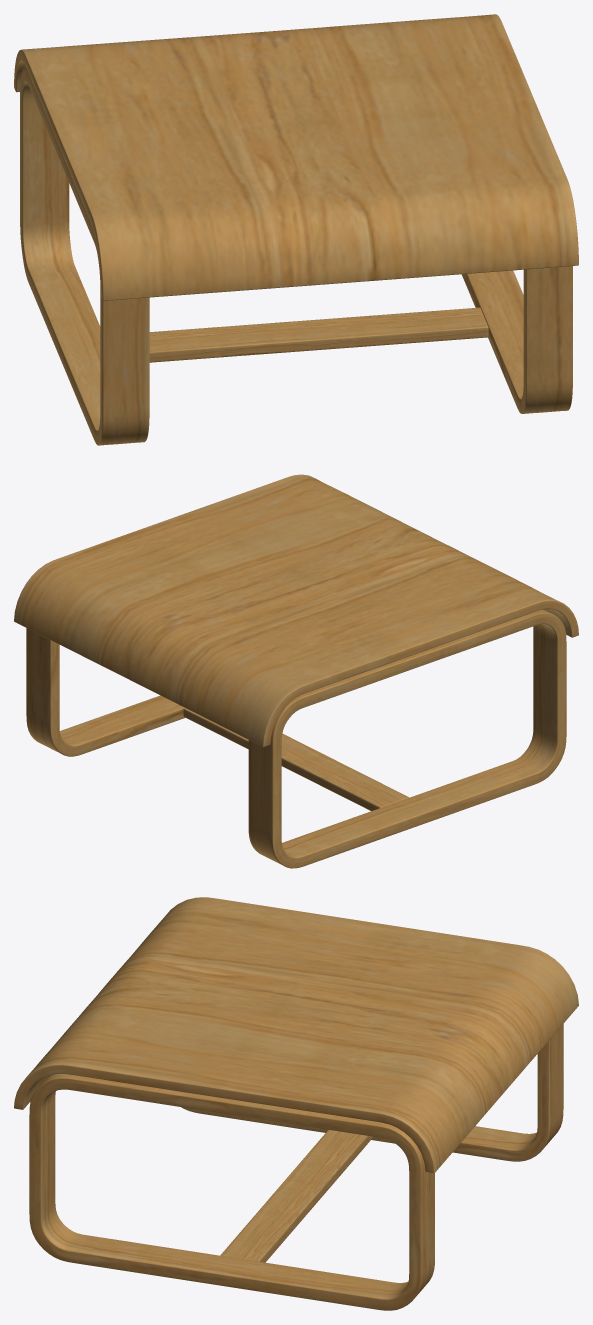
The model's file is stul_02.gltf.
The picture shows the model from 3 angles, top to bottom: view 1: azimuth 30°, elevation 25°; view 2: azimuth 150°, elevation 25°; view 3: azimuth 270°, elevation 25°; orthographic projection. The views are drawn at different scales.
Parts seen in each view (by area): view 1: object_13.002, object_17.002, object_17.003, object_18.002; view 2: object_13.002, object_17.002, object_17.003, object_18.002; view 3: object_13.002, object_17.003, object_18.002, object_17.002.
Part boxes in pixels (box(x1,y1,x2,y2)): object_13.002: box(14, 14, 578, 300); object_17.002: box(20, 67, 149, 445); object_17.003: box(461, 266, 572, 413); object_18.002: box(149, 307, 488, 362); object_13.002: box(14, 474, 578, 746); object_17.002: box(248, 609, 566, 868); object_17.003: box(26, 628, 184, 756); object_18.002: box(183, 708, 409, 811); object_13.002: box(14, 897, 578, 1172); object_17.003: box(29, 1074, 434, 1310); object_18.002: box(220, 1129, 372, 1262); object_17.002: box(181, 1024, 563, 1161).
Size of the model in its own units: 1.05 by 0.42 by 1.08.
3 materials, 2 textured.
